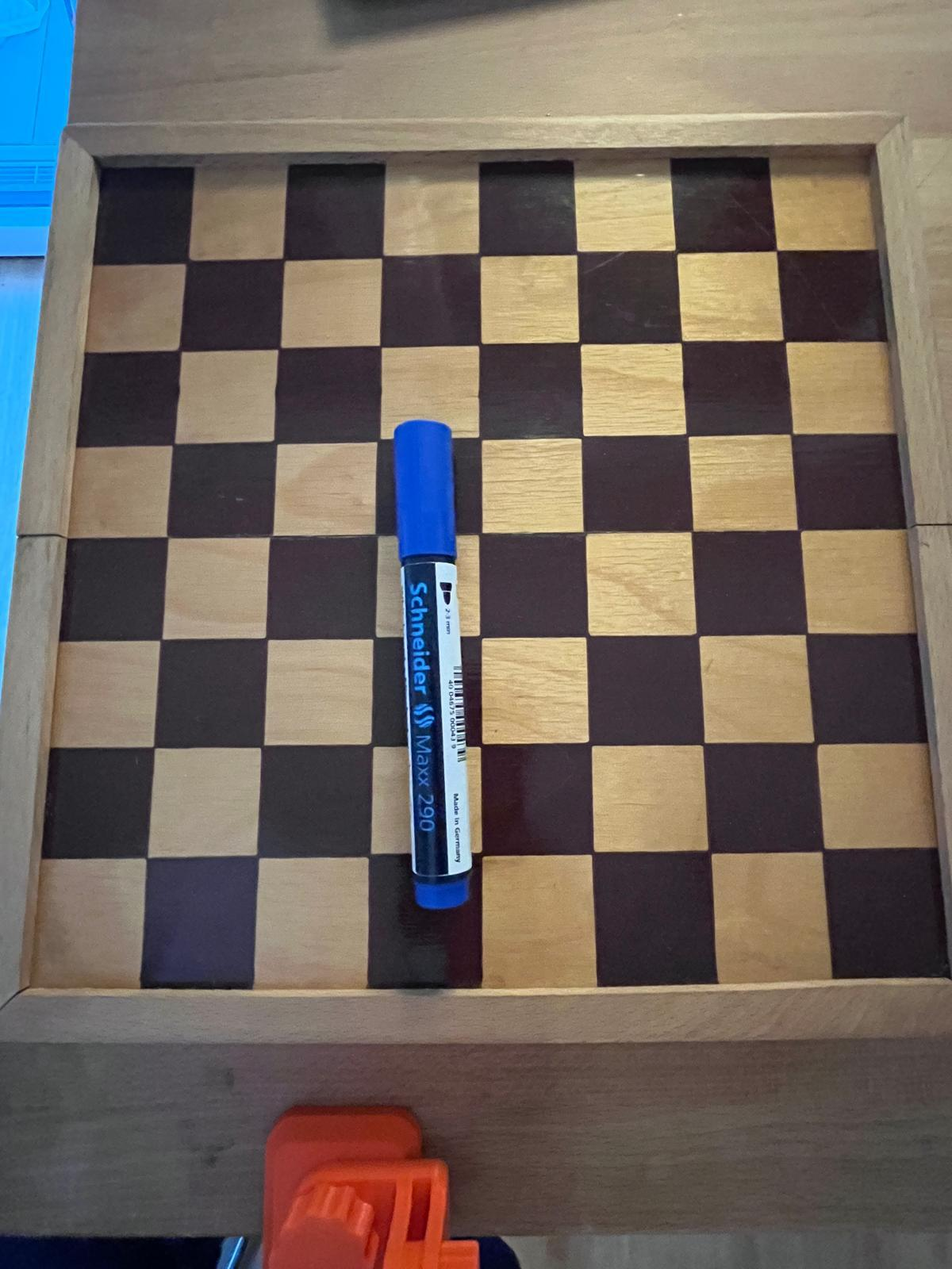marker: (393, 416, 473, 907)
